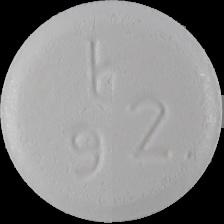0555-0096: (0, 0, 224, 224)
